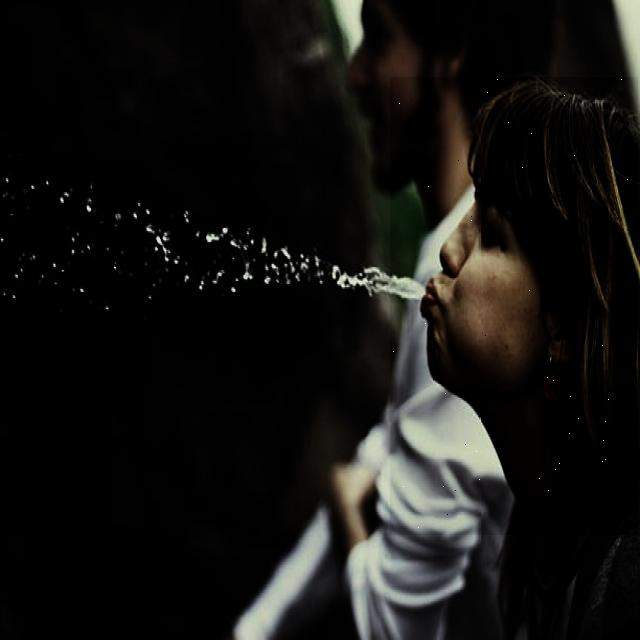Spitting: (390, 77, 638, 535)
